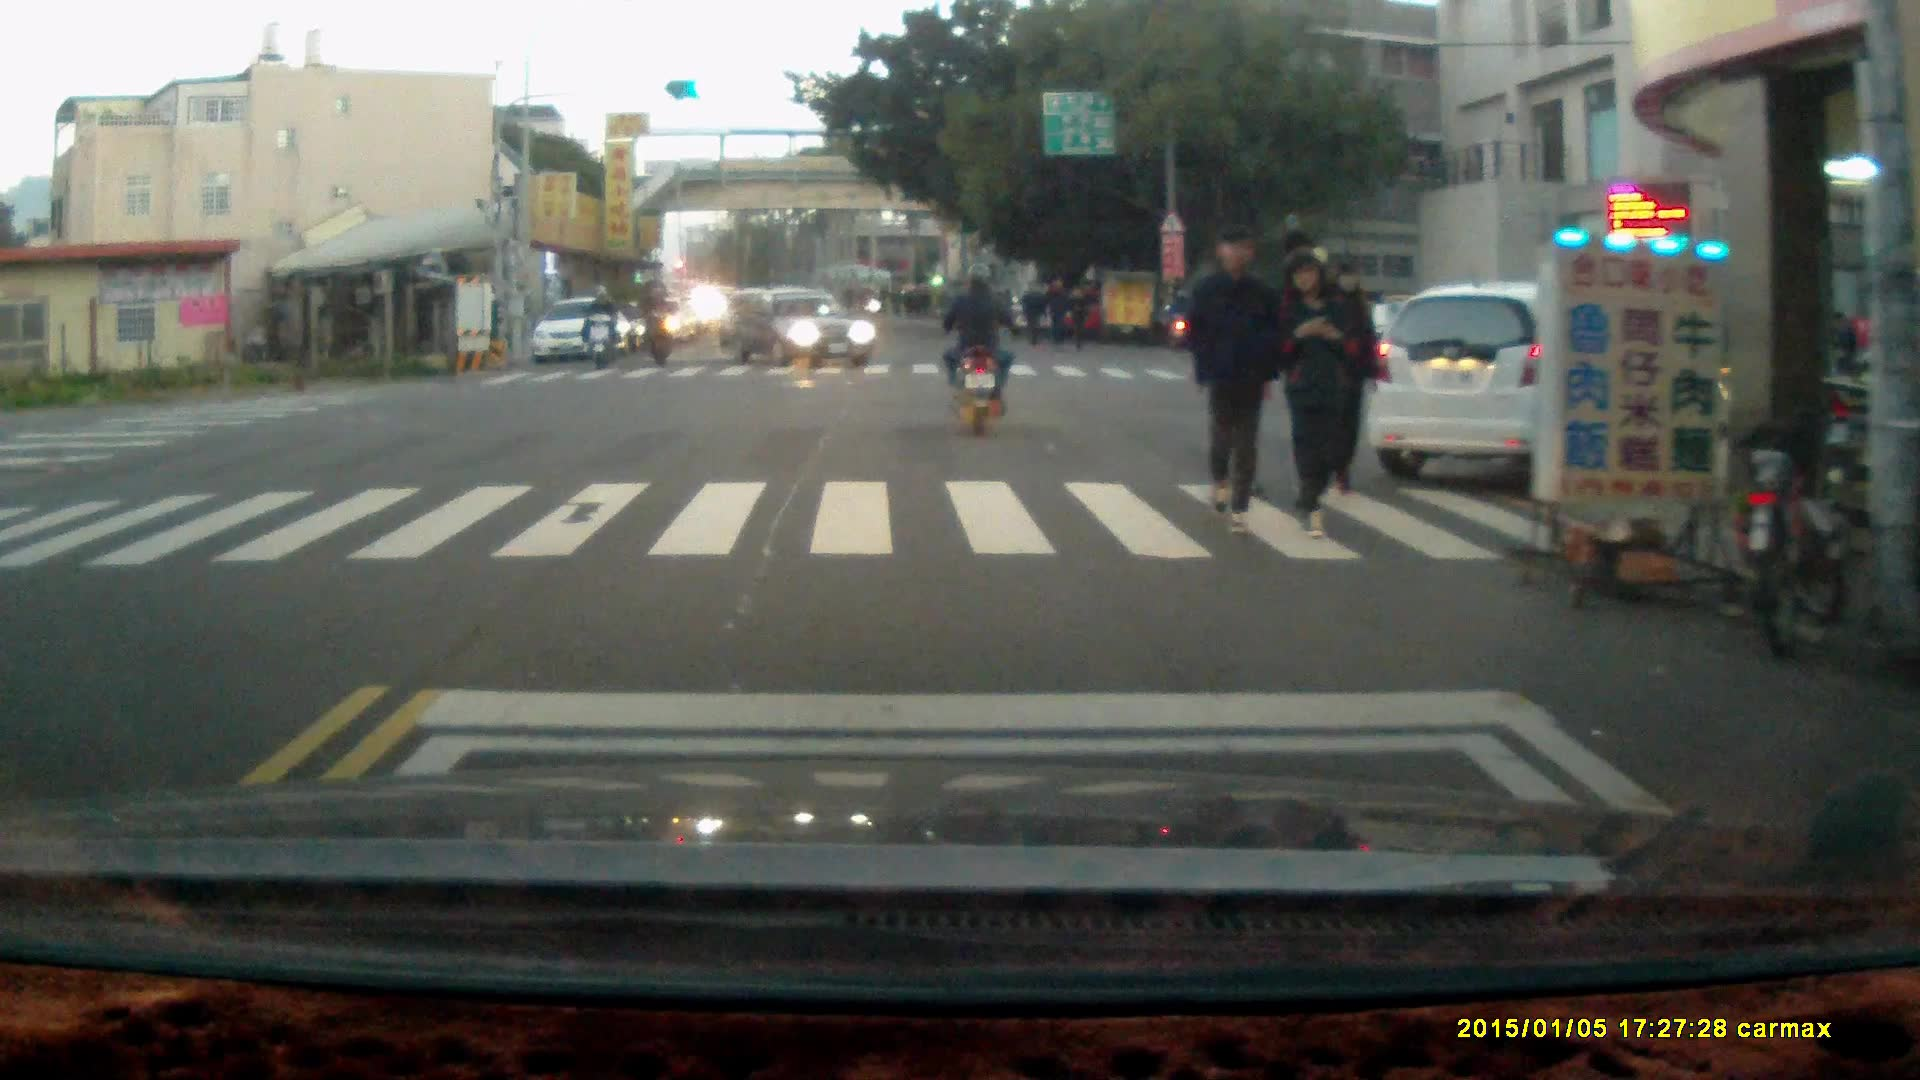pedestrian: (1180, 221, 1281, 535), (1273, 246, 1356, 537), (1041, 272, 1068, 350), (1062, 281, 1092, 351), (1018, 276, 1044, 346)
rider: (941, 257, 1011, 437), (636, 279, 677, 368), (581, 279, 618, 367), (1161, 288, 1201, 354)
vehicle: (1374, 287, 1784, 492), (723, 282, 875, 374), (532, 300, 632, 368)
